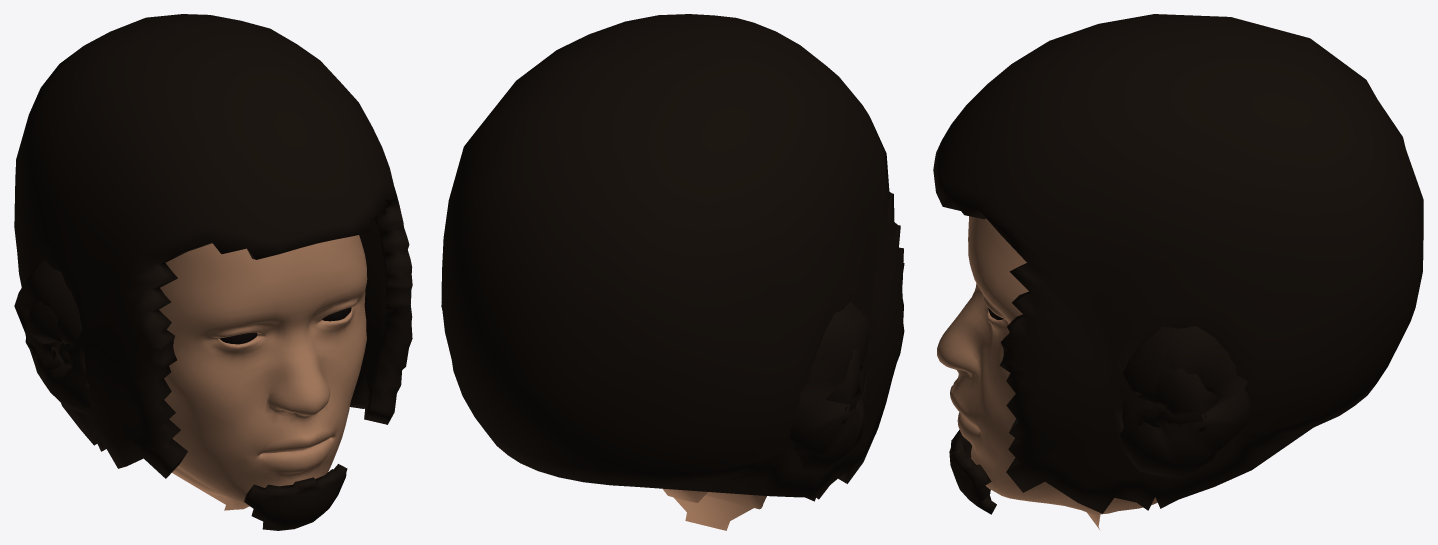
Rendered from SM_Part_M1_head.gltf.
The picture shows the model from 3 angles, left to right: view 1: azimuth 30°, elevation 25°; view 2: azimuth 150°, elevation 25°; view 3: azimuth 270°, elevation 25°; orthographic projection. The views are drawn at different scales.
Parts seen in each view (by area): view 1: SM_Part_M1_head; view 2: SM_Part_M1_head; view 3: SM_Part_M1_head.
Part boxes in pixels (left/top/right/bottom): SM_Part_M1_head: left=14, top=14, right=412, bottom=530; SM_Part_M1_head: left=441, top=14, right=904, bottom=530; SM_Part_M1_head: left=933, top=14, right=1423, bottom=529.
Bounding box in the file's own units: 0.2257 × 0.2747 × 0.2502.
